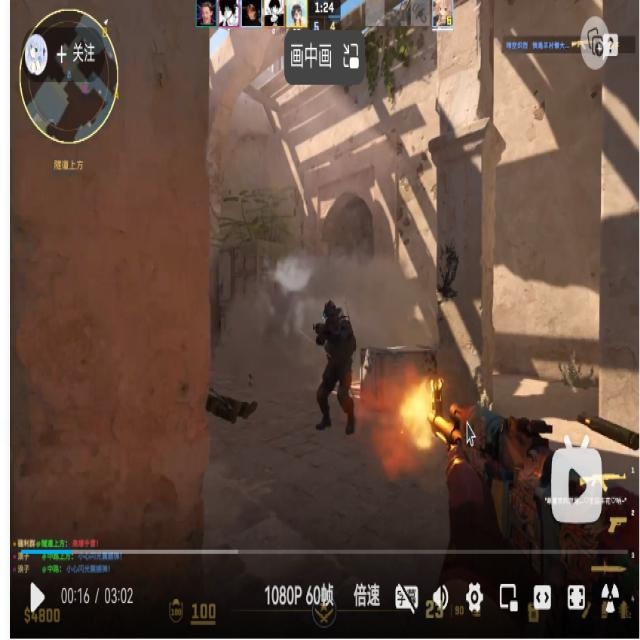person: (311, 299, 357, 437)
